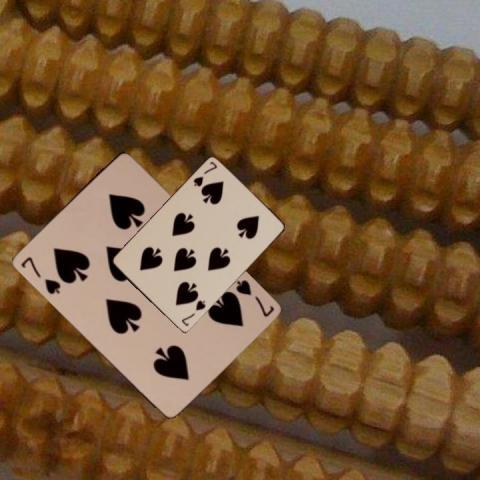7s: (17, 253, 62, 296), (232, 276, 275, 318), (190, 158, 219, 188), (179, 297, 207, 328)
